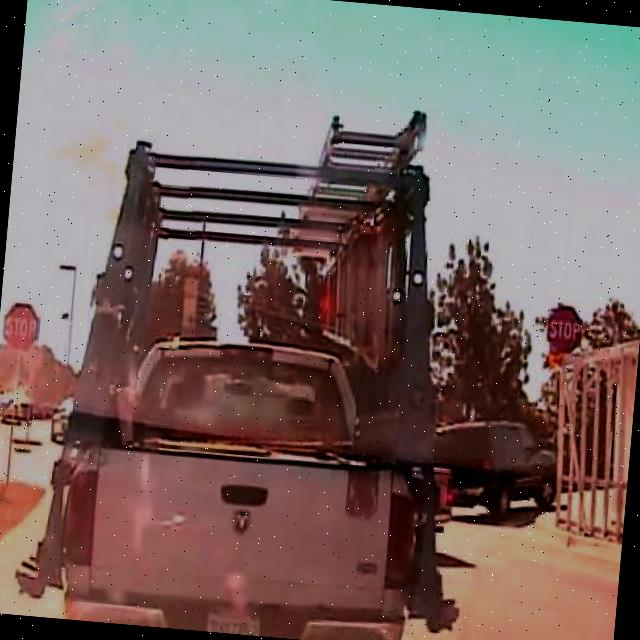Stop: (542, 302, 586, 358), (1, 303, 40, 357)
